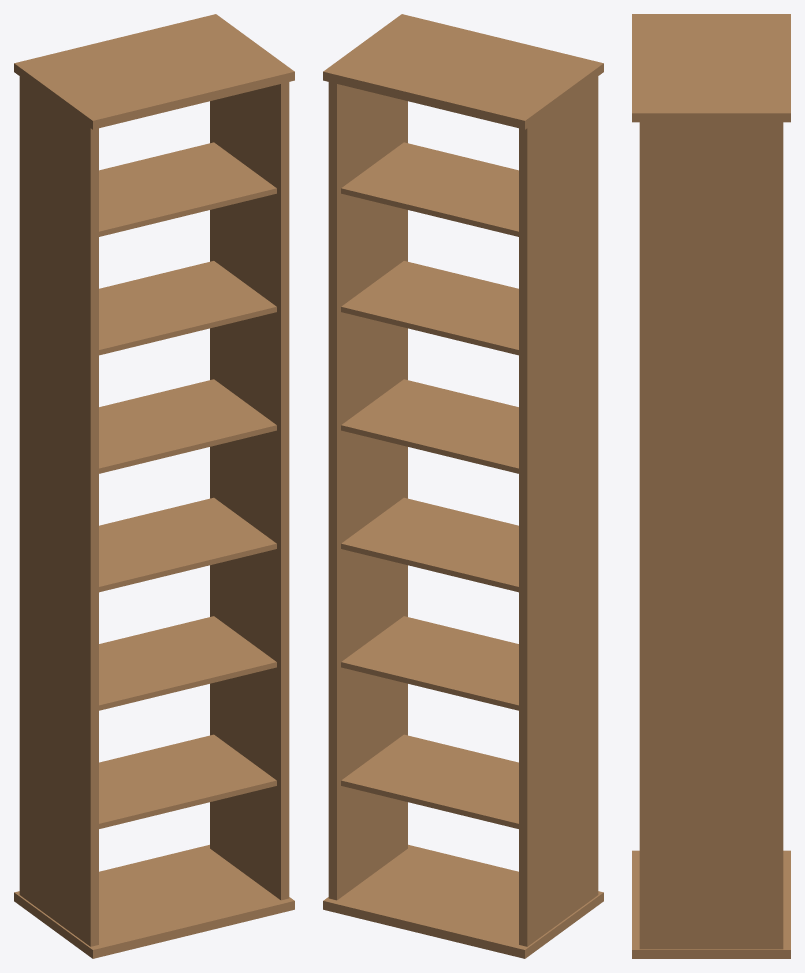
File: regal_offen.glb
The picture shows the model from 3 angles, left to right: view 1: azimuth 30°, elevation 25°; view 2: azimuth 150°, elevation 25°; view 3: azimuth 270°, elevation 25°; orthographic projection.
Parts seen in each view (by area): view 1: Shelf_2; view 2: Shelf_2; view 3: Shelf_2.
Part boxes in pixels (<box>): Shelf_2: <box>14,14,294,958</box>; Shelf_2: <box>323,14,603,958</box>; Shelf_2: <box>632,14,790,958</box>.
Size of the model in its own units: 0.4539 by 1.8 by 0.3066.
